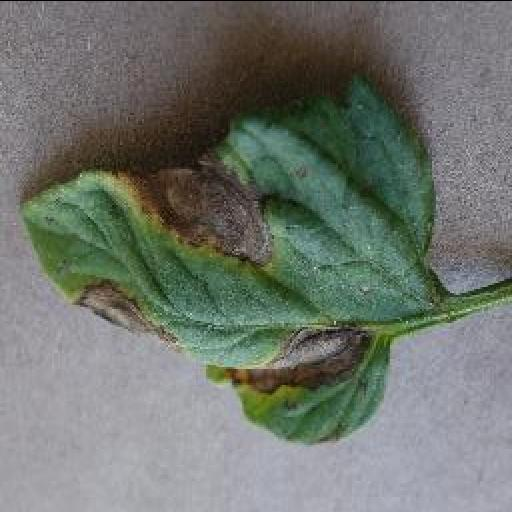Early Blight: (19, 76, 437, 444)
